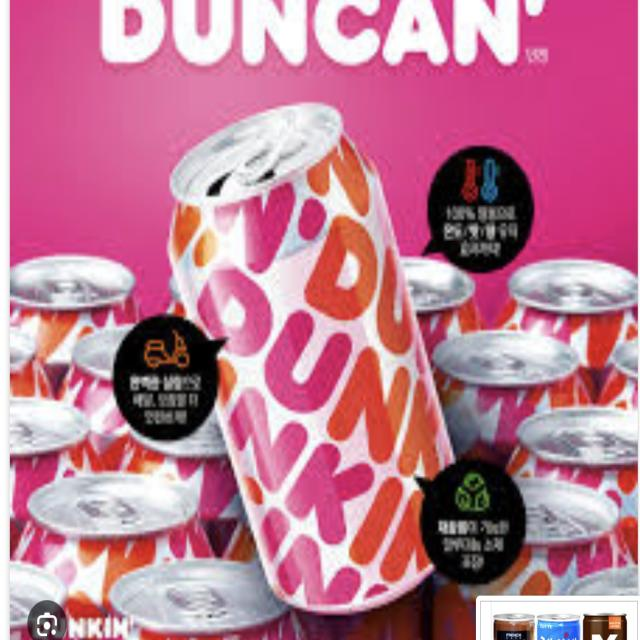recyclable: (154, 95, 485, 620)
